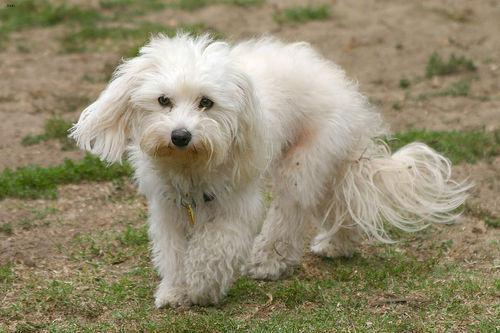dog-havanese: (74, 40, 277, 164)
